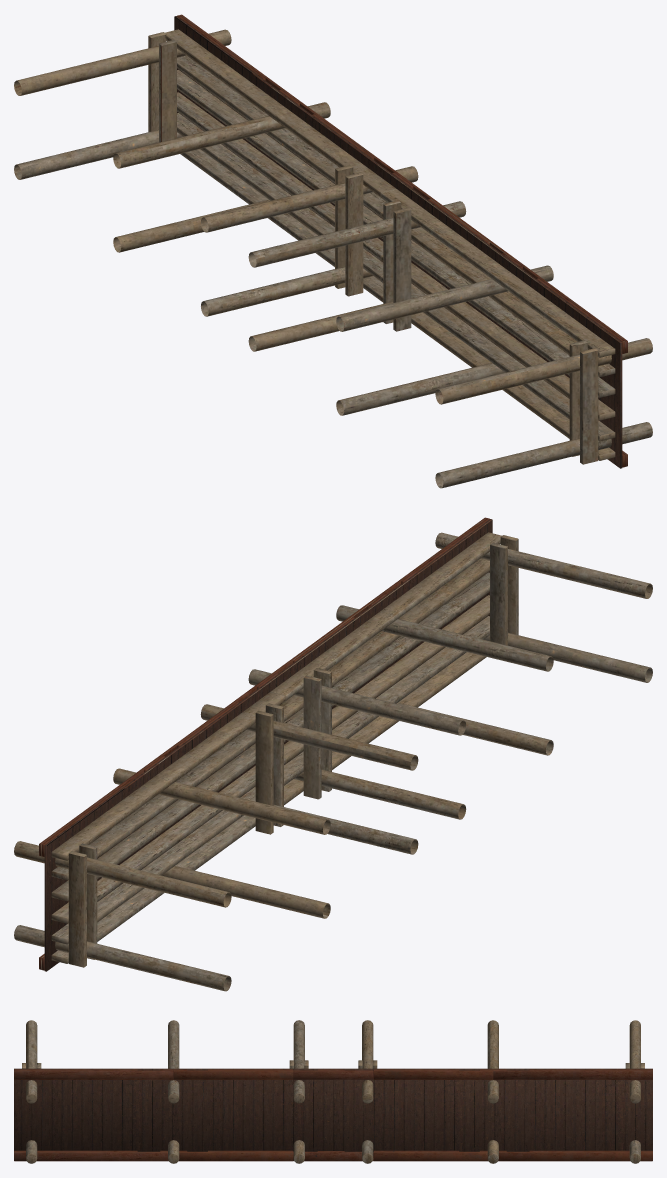
Rendered from cP_Dock02_Straight.dae.
3 views of the same model, one above another, from view 1: azimuth 30°, elevation 25°; view 2: azimuth 150°, elevation 25°; view 3: azimuth 270°, elevation 25° (orthographic). The views are drawn at different scales.
Parts seen in each view (by area): view 1: cP_Dock02_Straight.001; view 2: cP_Dock02_Straight.001; view 3: cP_Dock02_Straight.001.
Part boxes in pixels (x1,y1,x2,y2): cP_Dock02_Straight.001: [14, 14, 652, 488]; cP_Dock02_Straight.001: [14, 517, 652, 991]; cP_Dock02_Straight.001: [14, 1020, 652, 1163].
Size of the model in its own units: 4.35 by 16 by 2.5.
